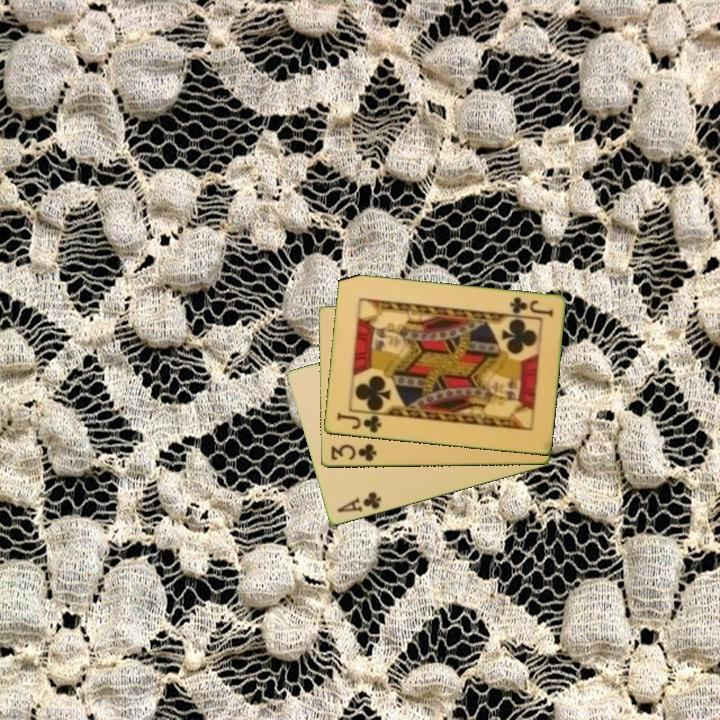3c: (327, 441, 379, 464)
Ac: (333, 489, 384, 516)
Jc: (333, 409, 384, 436), (506, 293, 556, 320)
